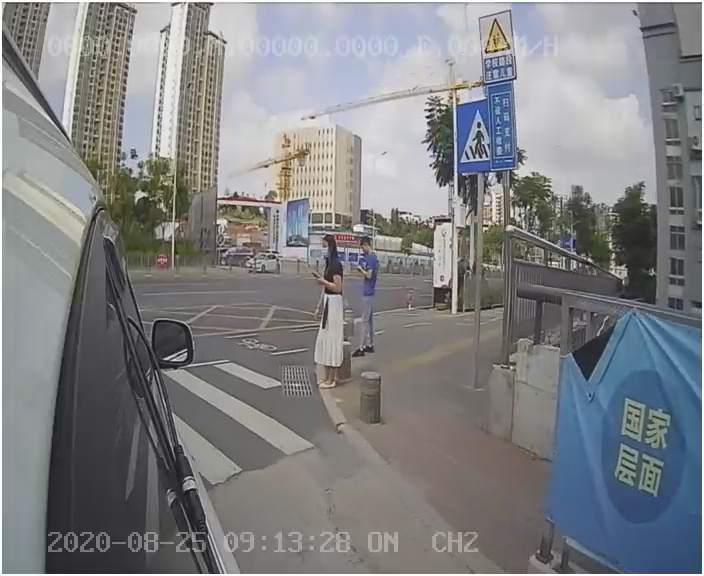person: (306, 235, 351, 394)
